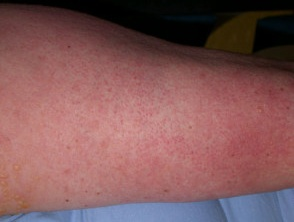SJS-TEN: (46, 20, 294, 213)
